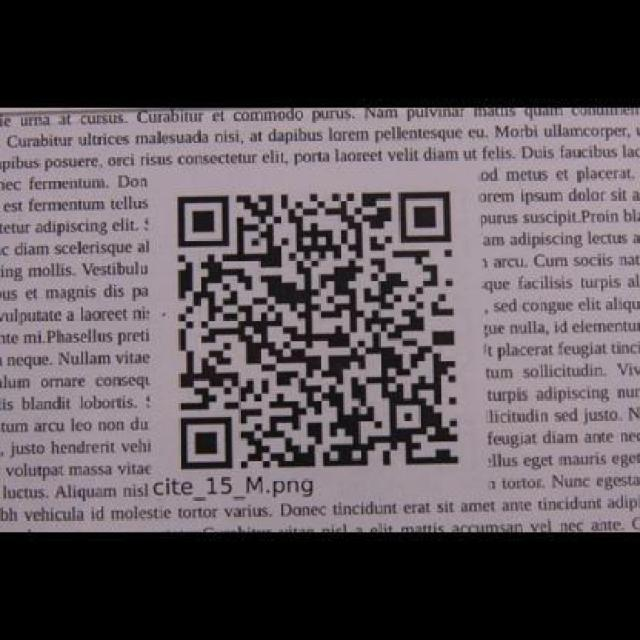QRCode: (172, 186, 466, 474)
